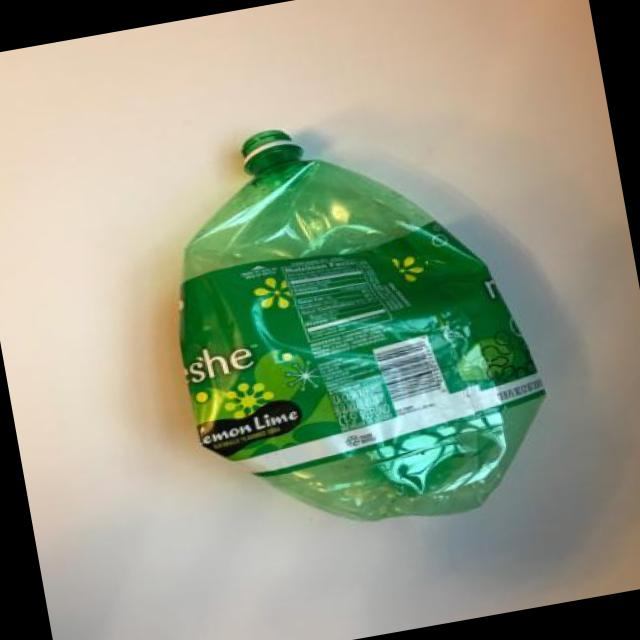plastic: (140, 143, 537, 558)
